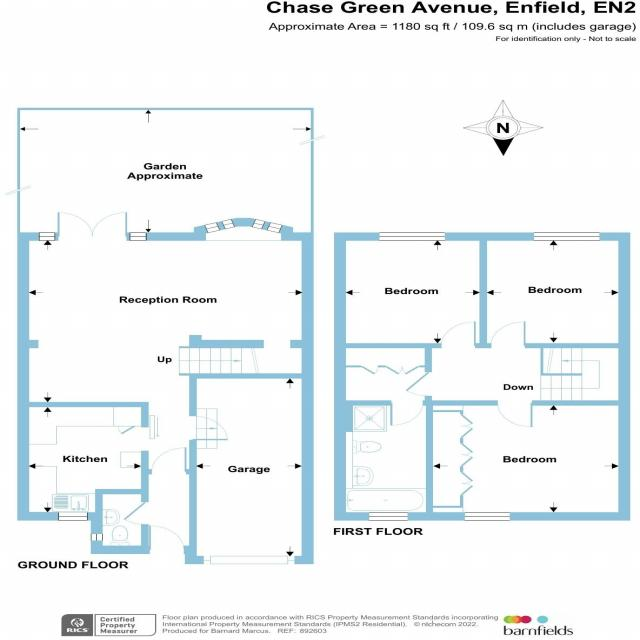DOOR: (148, 525, 185, 553), (440, 321, 477, 349), (150, 447, 188, 474), (489, 321, 527, 348), (496, 401, 533, 428), (389, 400, 424, 426)
DOUBLE DOOR: (54, 209, 131, 242)
ROOM: (16, 210, 312, 520), (462, 400, 630, 521), (333, 232, 487, 348), (479, 232, 630, 348)
WINDOW: (533, 232, 601, 241), (378, 232, 445, 241), (250, 218, 283, 233), (202, 219, 235, 233), (463, 512, 511, 521), (367, 512, 408, 521), (57, 512, 89, 521), (38, 232, 56, 241), (129, 232, 147, 241), (90, 533, 103, 541)
